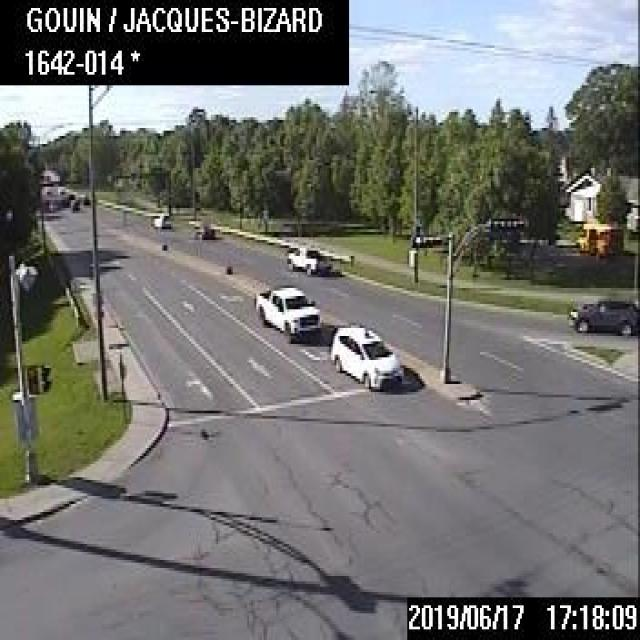bus: (575, 222, 622, 258)
vehicle: (328, 324, 401, 386), (253, 284, 320, 341), (567, 297, 638, 334), (285, 244, 331, 274), (150, 210, 170, 226), (192, 225, 213, 238)
